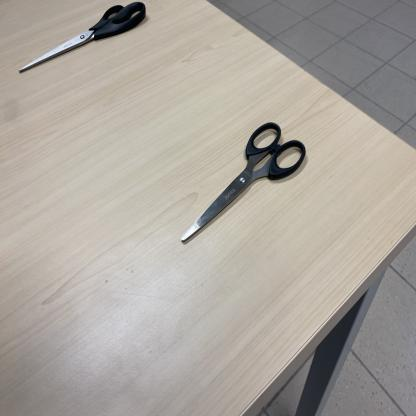scissors: (182, 123, 306, 243), (18, 0, 147, 74)
